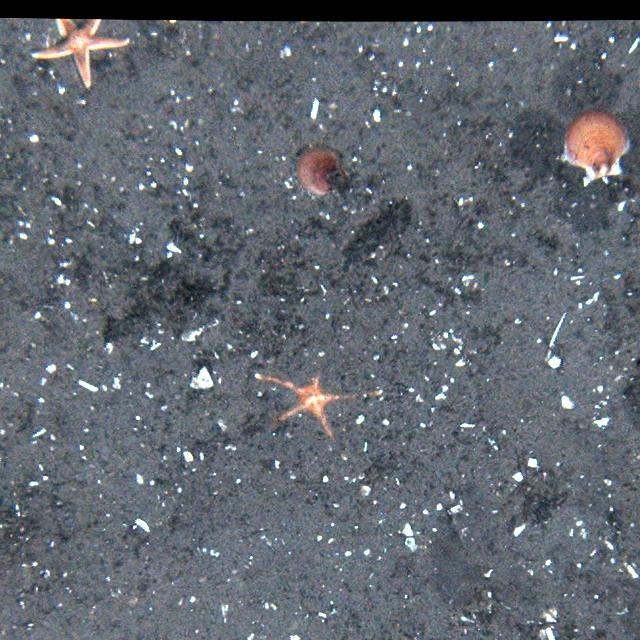scallop: (564, 108, 634, 184), (297, 144, 348, 190)
